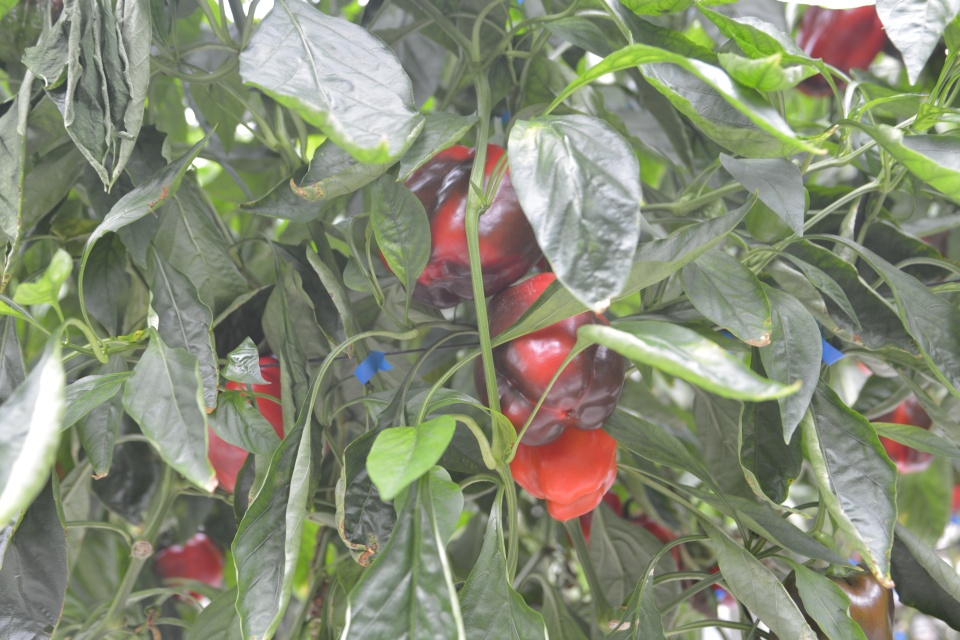fruit: (378, 141, 544, 311), (471, 281, 628, 447), (204, 355, 284, 493), (767, 556, 896, 640), (508, 426, 619, 522), (790, 4, 888, 99), (149, 531, 227, 604), (868, 392, 932, 472), (743, 182, 811, 244)
pedicle: (820, 569, 858, 576)
